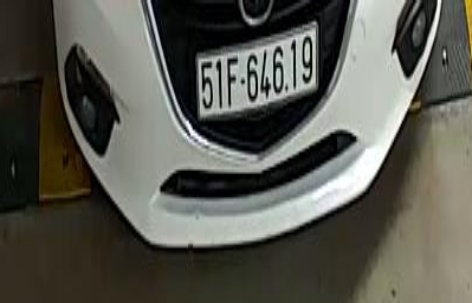plate: (191, 19, 327, 125)
